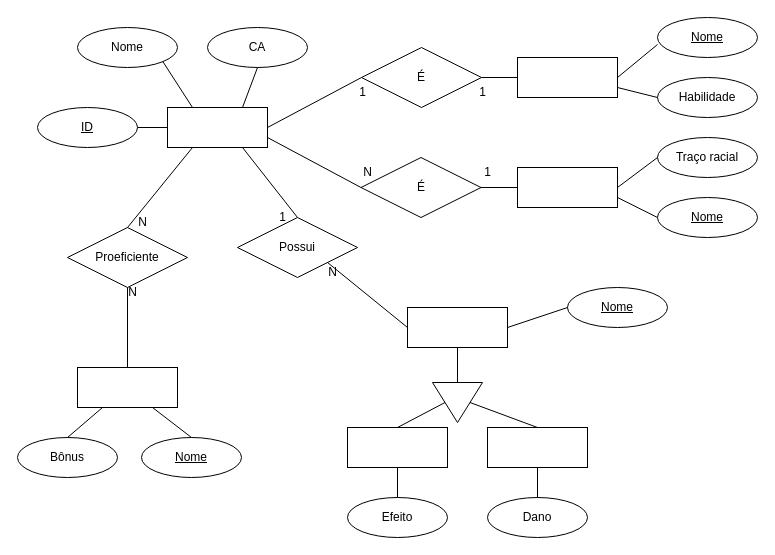
Some shapes in this 775 by 555 pixel diagram are drawn without their labels. The centre of each missing label's shape, as x and y in pixels:
"Arma" belongs at point 537,447.
"Classe" belongs at point 567,77.
"Ferramenta" belongs at point 397,447.
"Item" belongs at point 457,327.
"Personagem" belongs at point 217,127.
"Perícia" belongs at point 127,387.
"Raça" belongs at point 567,187.
